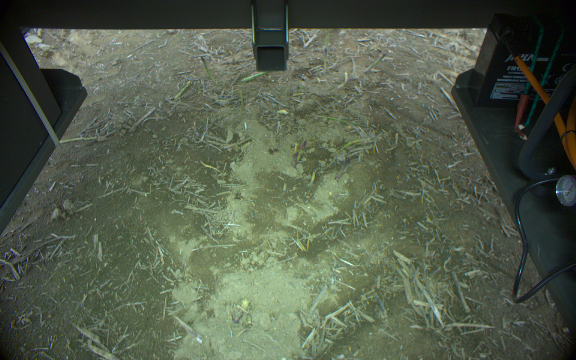aspa: (321, 28, 333, 72), (199, 54, 215, 85), (58, 134, 99, 144), (173, 78, 192, 99), (241, 72, 268, 83)
